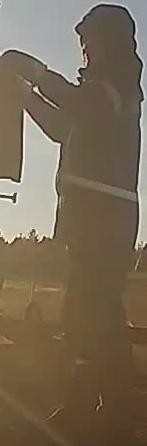gloves: (1, 43, 47, 92)
vest: (53, 70, 141, 272)
